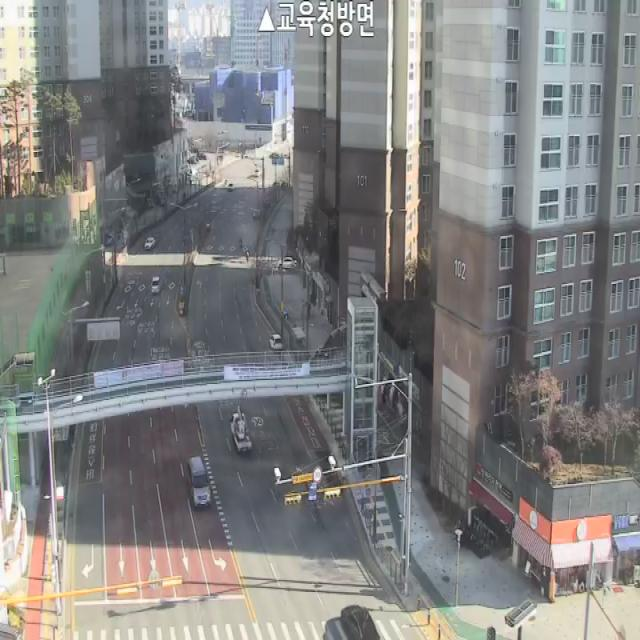Car: (341, 606, 380, 640), (188, 456, 212, 506), (278, 257, 296, 270), (269, 334, 283, 349), (152, 276, 160, 294), (144, 237, 155, 250)
Truck: (230, 404, 252, 452)
